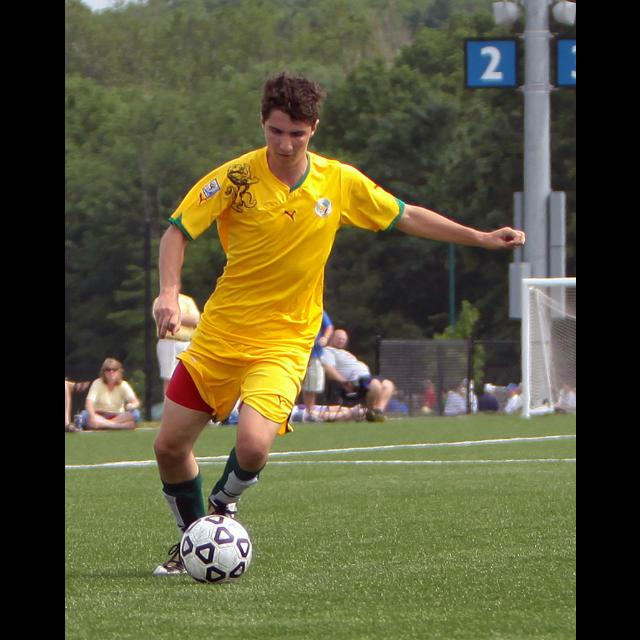Football: (178, 512, 252, 584)
